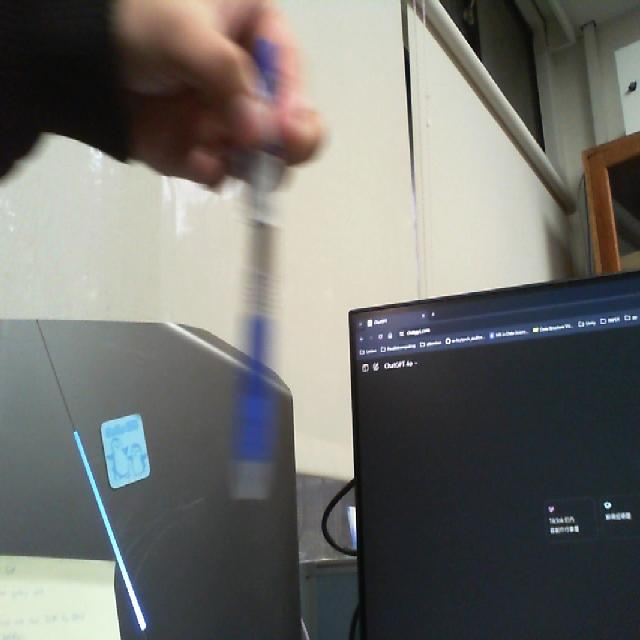Pen: (224, 30, 290, 514)
